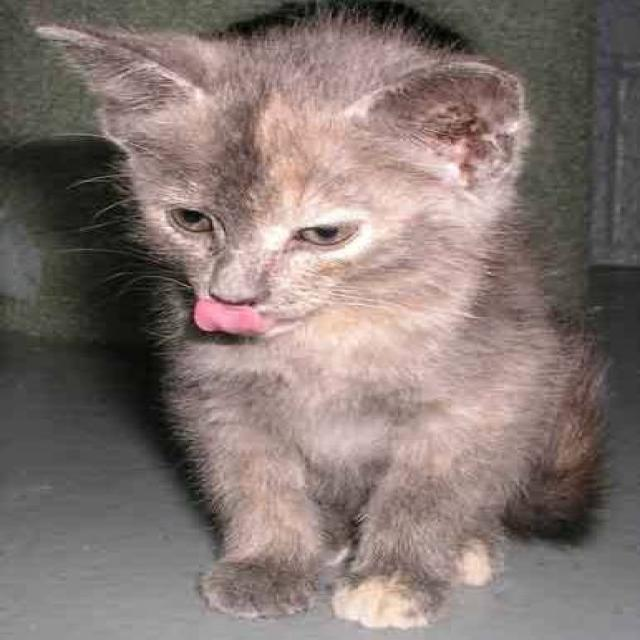cat: (28, 0, 614, 630)
